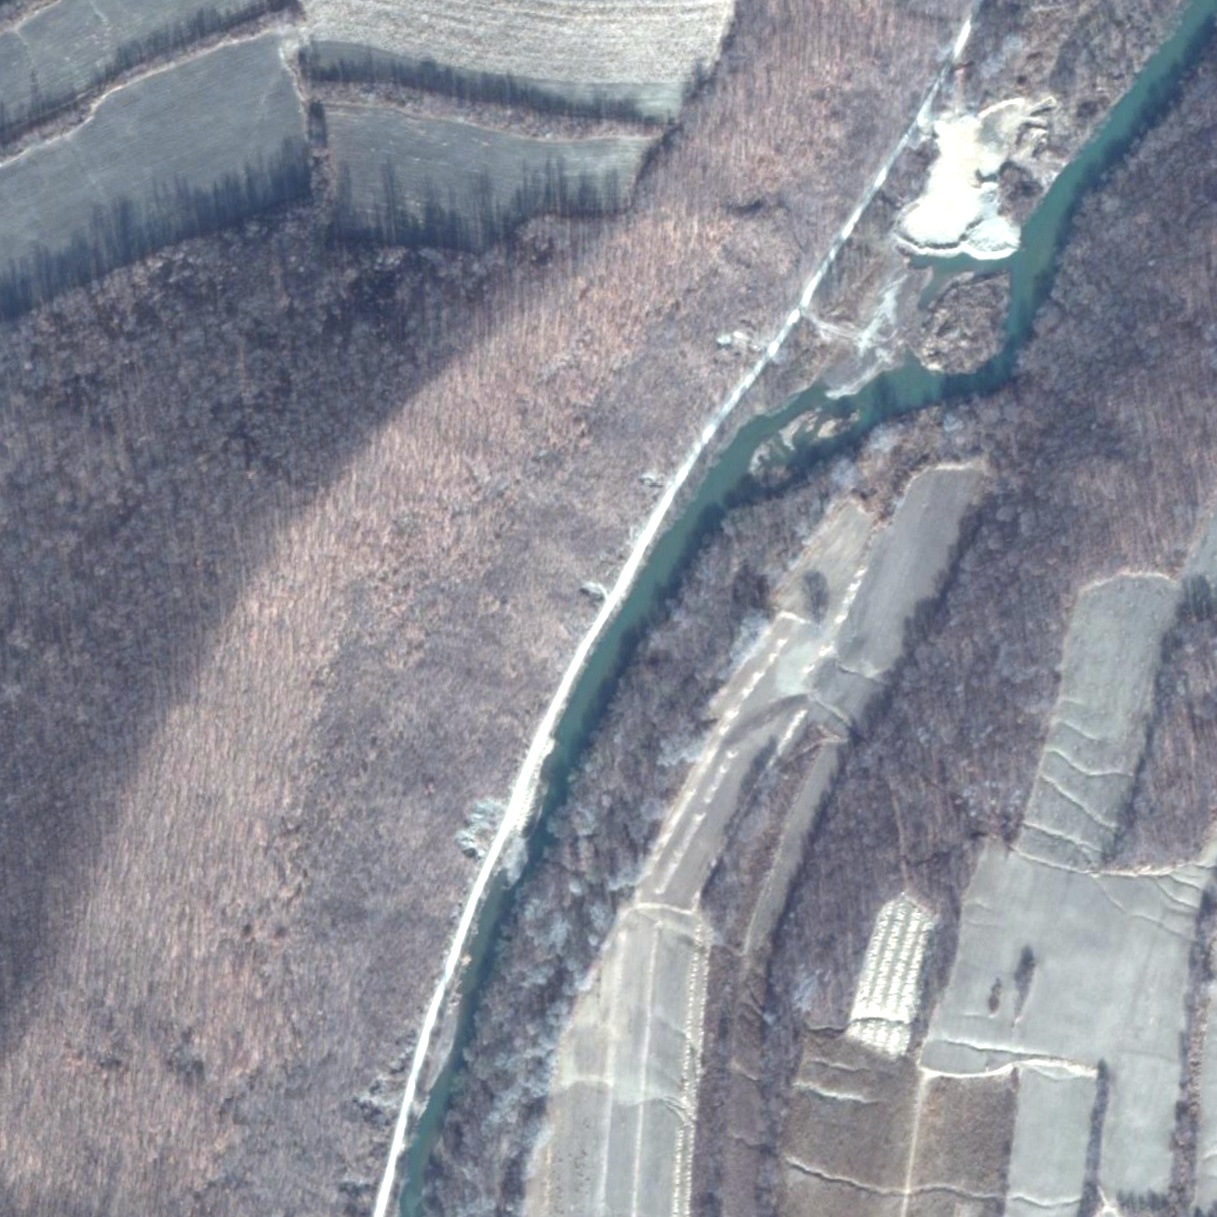slope: (883, 79, 1068, 267)
